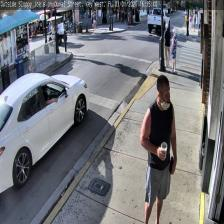person: (140, 74, 176, 224)
